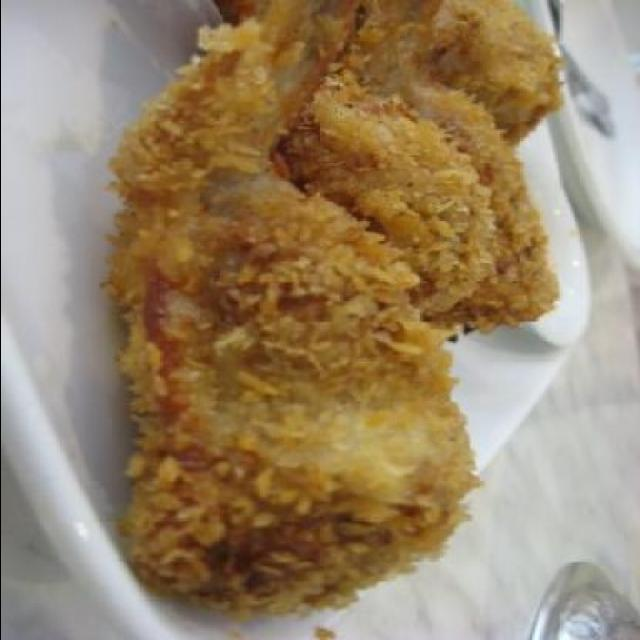Deep fried chicken wing: (123, 17, 568, 620)
